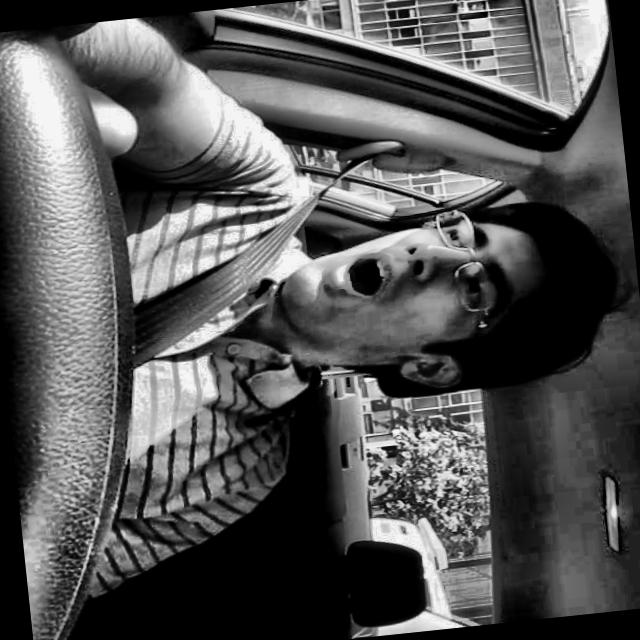open_eyes: (436, 211, 477, 254)
open_mouth: (300, 239, 399, 314)
